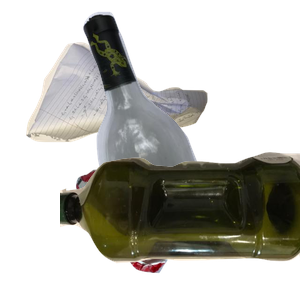glass: (81, 10, 300, 190)
paper: (23, 40, 223, 180)
plastic: (60, 149, 300, 300)
trash: (74, 167, 235, 300)
